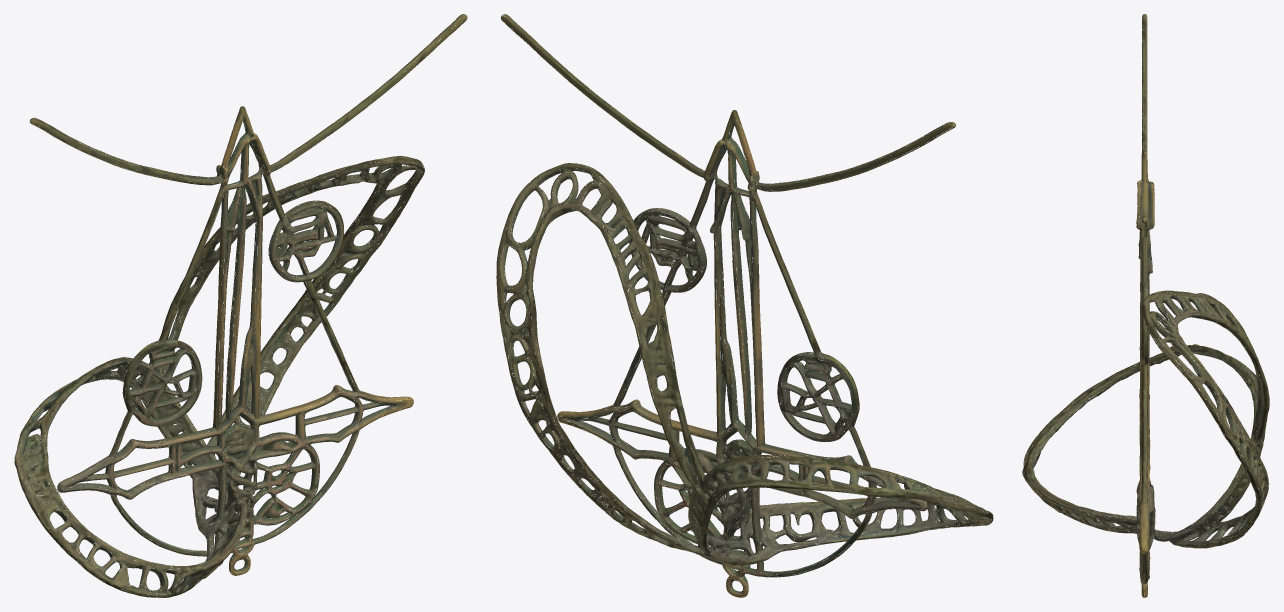
The model's file is _m4-clean.glb.
The picture shows the model from 3 angles, left to right: view 1: azimuth 30°, elevation 25°; view 2: azimuth 150°, elevation 25°; view 3: azimuth 270°, elevation 25°; orthographic projection. The views are drawn at different scales.
Parts seen in each view (by area): view 1: world; view 2: world; view 3: world.
Boxes of the visible parts, x1,y1,x2,y2 form: world: (14,14,467,597); world: (496,14,993,597); world: (1022,14,1269,597).
Bounding box in the file's own units: 36.8 × 39.99 × 18.48.
Materials: 1 (1 with a texture image).
